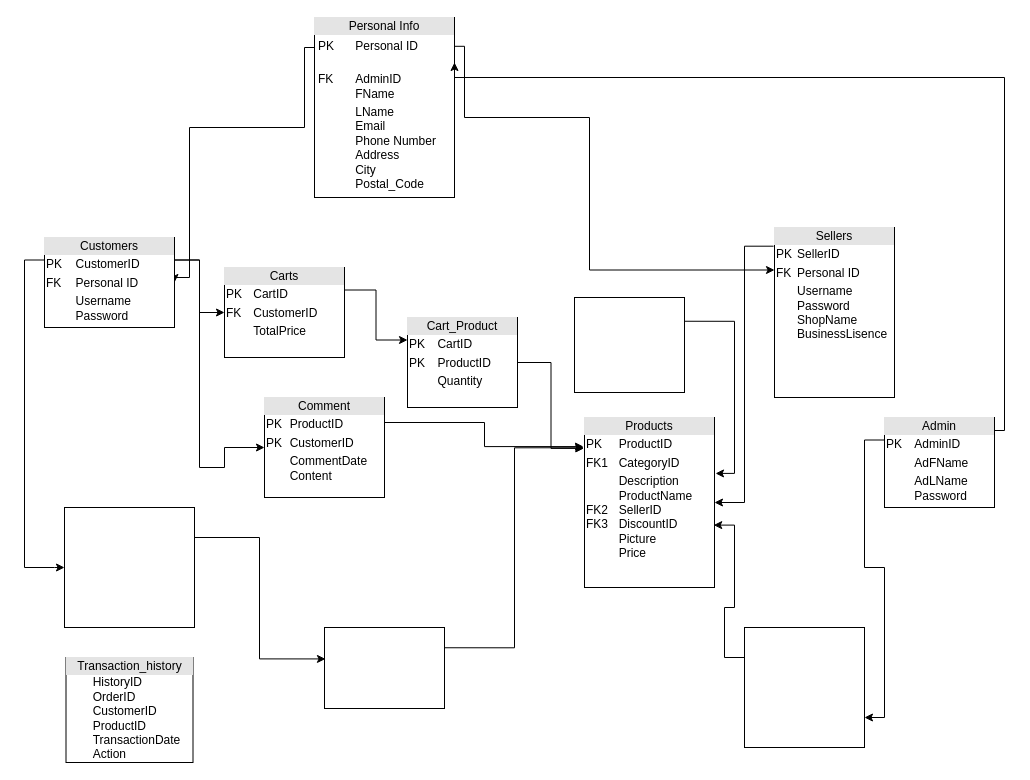
Some shapes in this 1030 by 780 pixel diagram are drawn without their labels. Each missing label, with the centre of its shape:
"Category PK CategoryID CategoryName Description" goes at point 629,344.
"Discounts PK DiscountID FK StartDate EndDate AdminID DiscountPercent" goes at point 804,687.
"Order_Details PK OrderID PK ProductID Quantity" goes at point 384,667.
"Orders PK OrderID FK CustomerID OrderDate PaymentType PaymentDate" goes at point 129,567.
